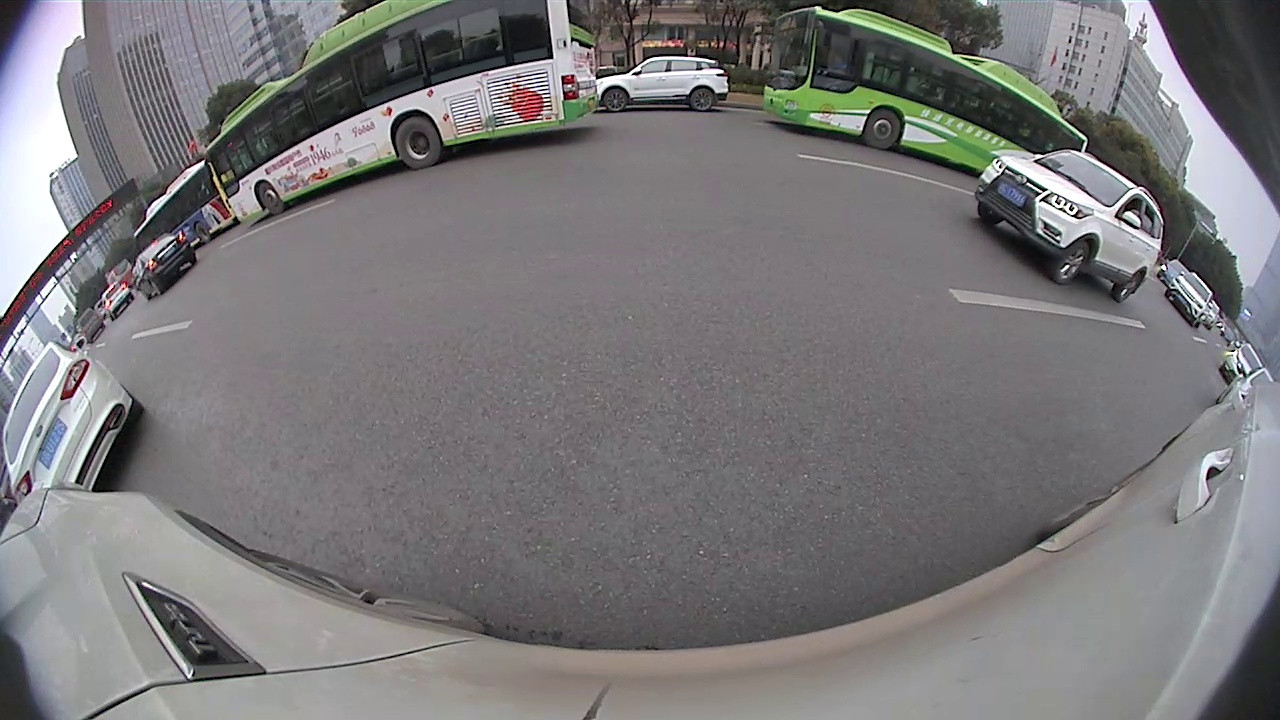bus: (199, 1, 604, 231), (763, 5, 1093, 172)
car: (973, 147, 1166, 304), (2, 337, 149, 500), (591, 52, 731, 118), (127, 231, 199, 306)
front: (865, 107, 905, 153), (1055, 237, 1088, 288), (257, 180, 287, 216), (602, 88, 632, 113)
rear: (393, 117, 443, 171), (689, 85, 715, 112), (193, 222, 209, 243)
